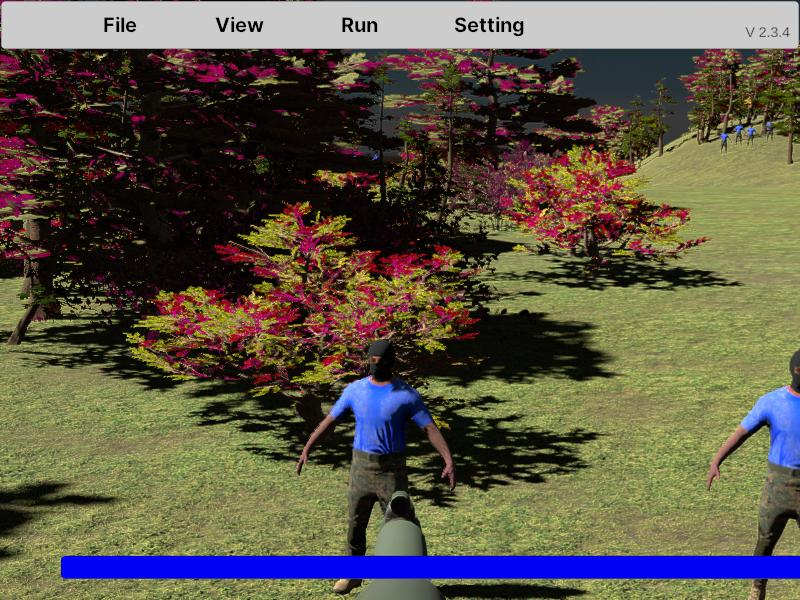Human: (297, 337, 456, 592), (705, 349, 800, 600)
